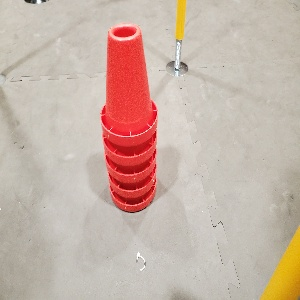Red_5: (100, 22, 157, 212)
